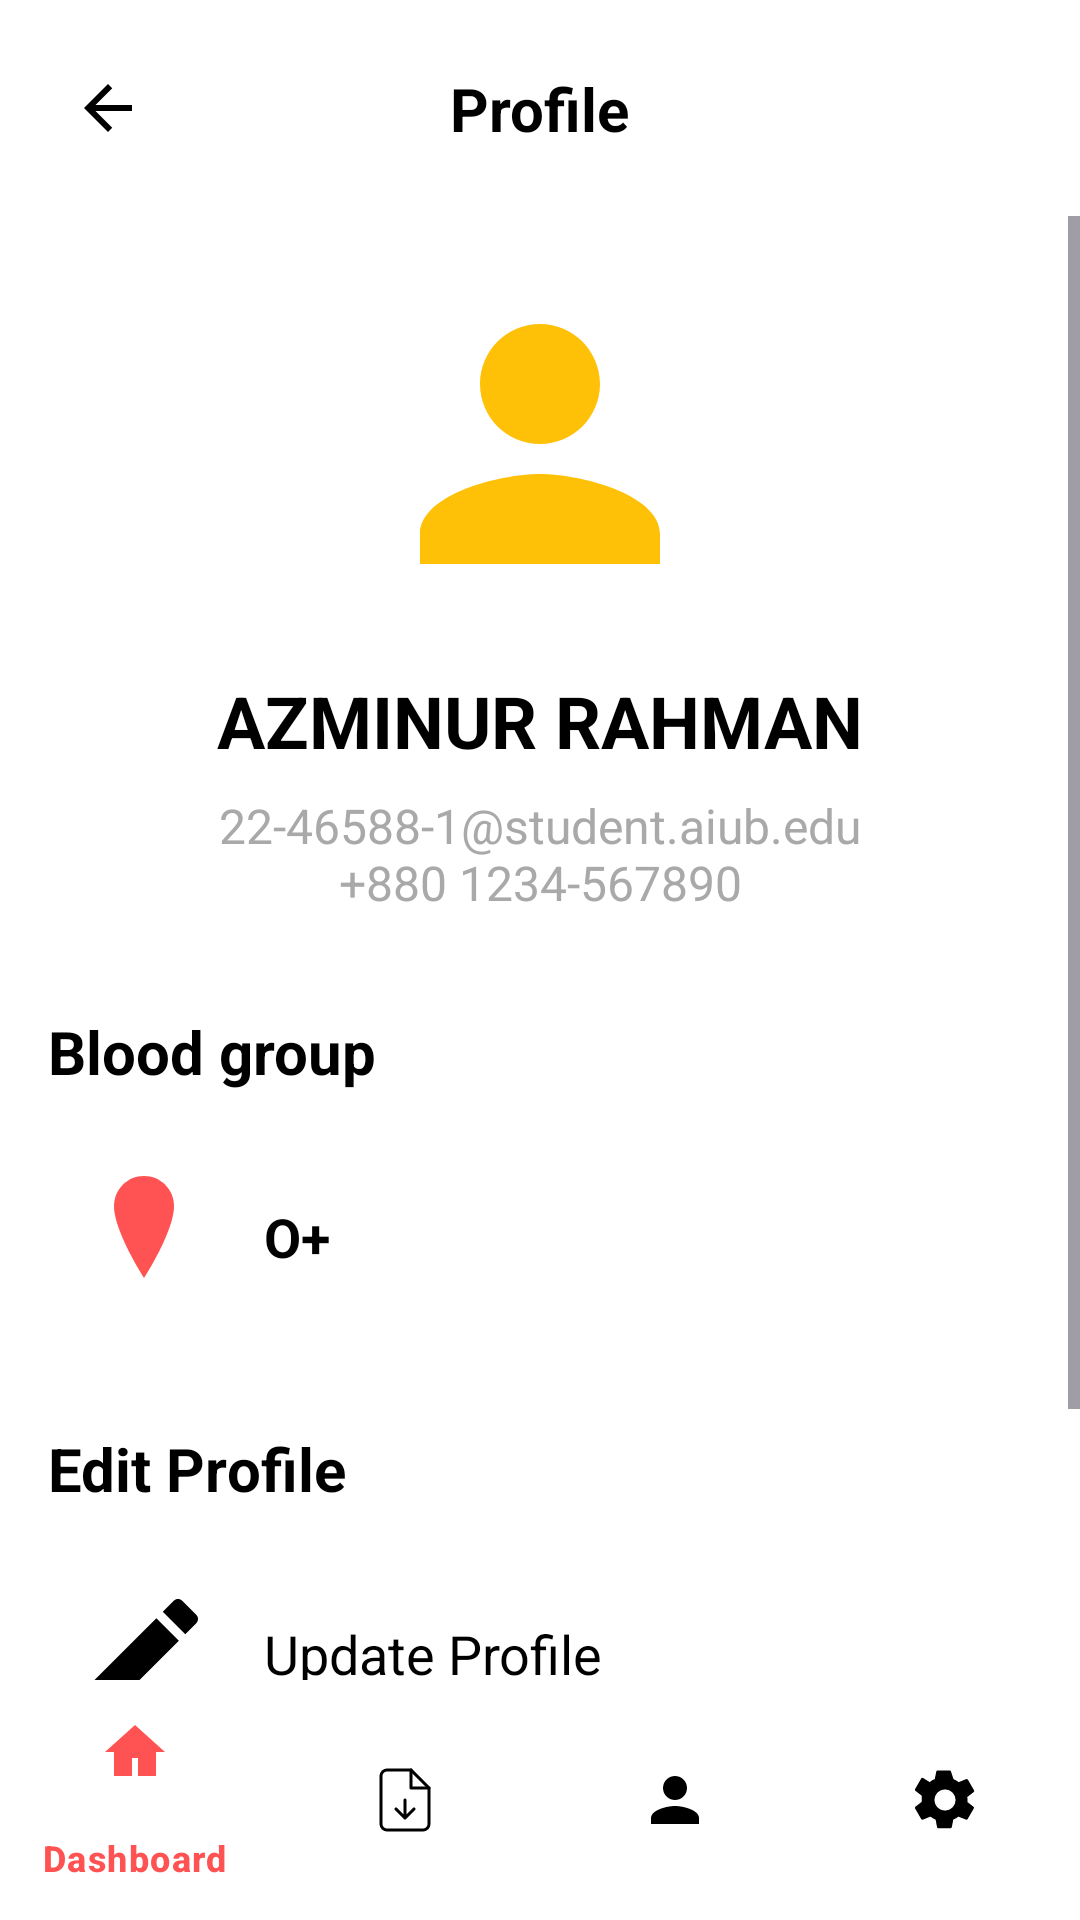

Named icons in this screenshot (1080×1920) and their centers, [x,y]:
arrow back: [108,108]
